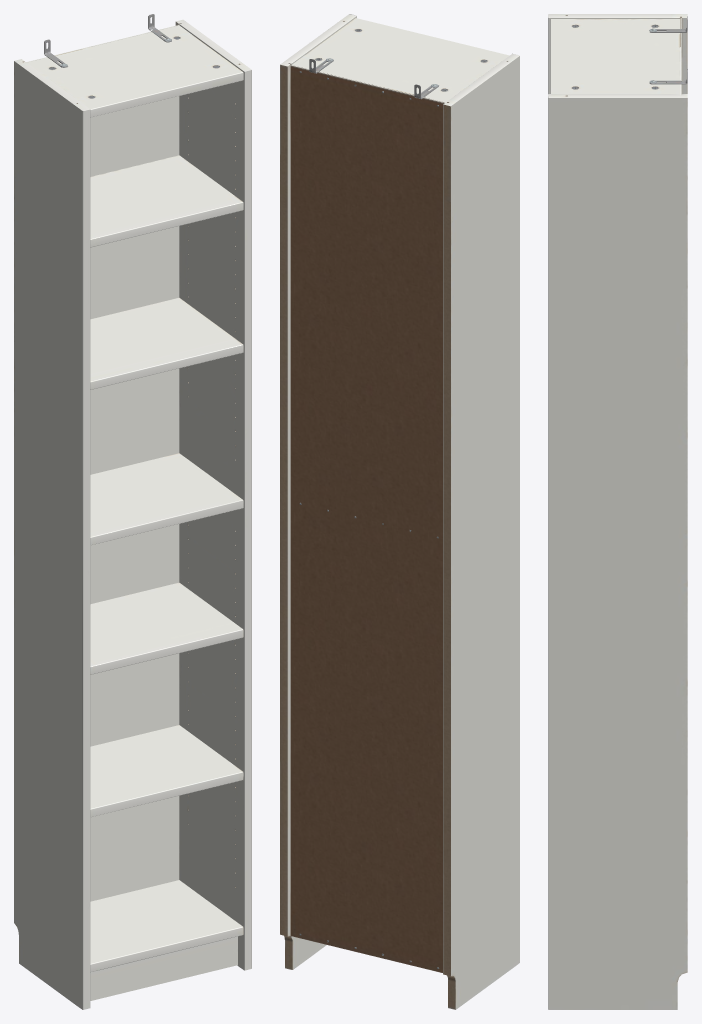
File: billy_rega_50263838.glb
3 views of the same model, side by side, from view 1: azimuth 30°, elevation 25°; view 2: azimuth 150°, elevation 25°; view 3: azimuth 270°, elevation 25° (orthographic).
Visible parts, largest first — view 1: billy_rega_50263838; view 2: billy_rega_50263838; view 3: billy_rega_50263838.
Part boxes in pixels (bbox=[...]): billy_rega_50263838: bbox=[14, 14, 251, 1009]; billy_rega_50263838: bbox=[280, 14, 519, 1009]; billy_rega_50263838: bbox=[548, 14, 687, 1009].
Size of the model in its own units: 0.398 by 2.05 by 0.28.
Materials: 1 (1 with a texture image).
